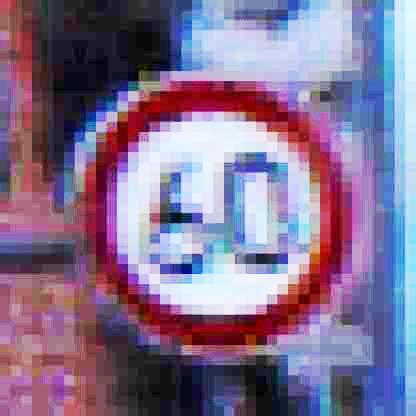Speed Limit -60-: (69, 69, 368, 357)
